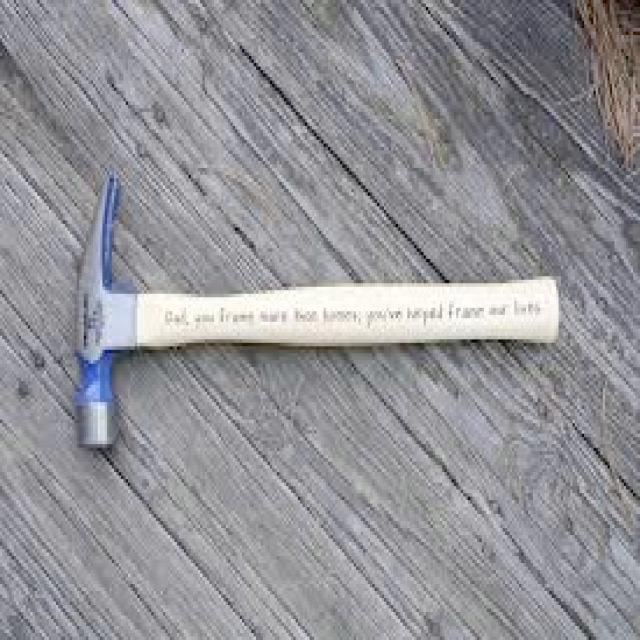hammer: (69, 162, 586, 468)
